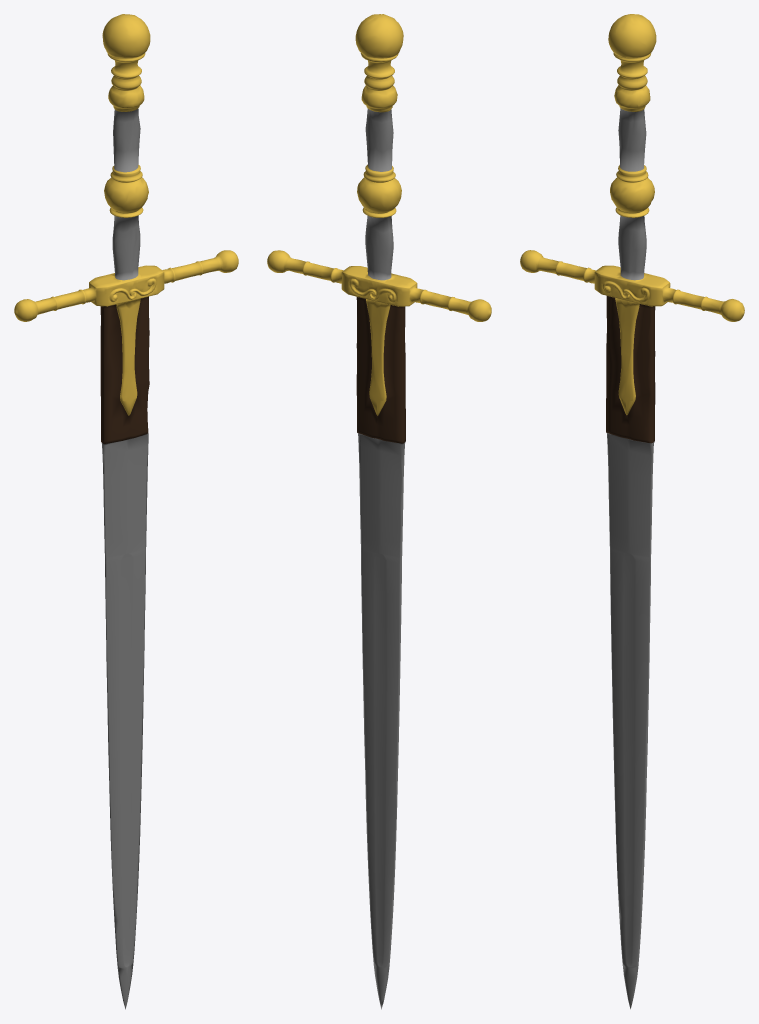
File: sworns_greatsword_low.fbx
3 views of the same model, side by side, from view 1: azimuth 30°, elevation 25°; view 2: azimuth 150°, elevation 25°; view 3: azimuth 330°, elevation 25° (orthographic).
Parts seen in each view (by area): view 1: Sword _low .001; view 2: Sword _low .001; view 3: Sword _low .001.
Part boxes in pixels (box(x1,y1,x2,y2)): Sword _low .001: box(14, 14, 238, 1009); Sword _low .001: box(267, 14, 491, 1009); Sword _low .001: box(520, 14, 744, 1009).
Size of the model in its own units: 208 by 884 by 38.53.
